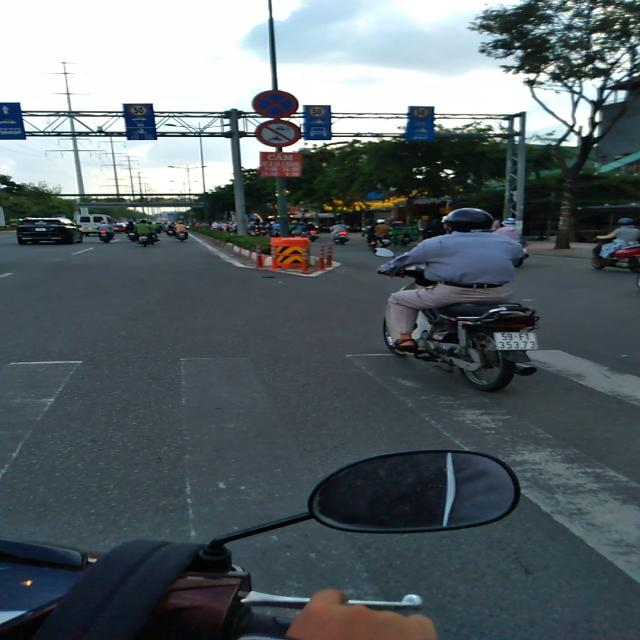Cam con lai: (254, 120, 301, 148)
Cam dung va do: (251, 90, 299, 118)
Toc do toi da: (128, 104, 149, 117), (308, 106, 327, 118), (412, 107, 432, 118)
